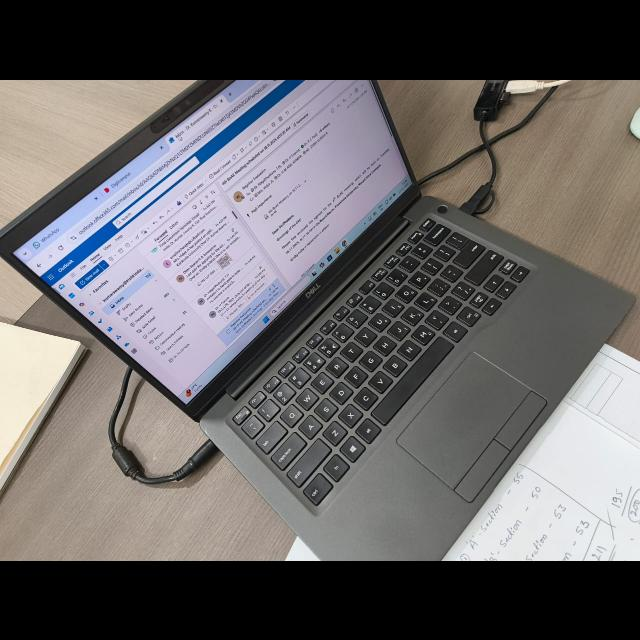laptop: (3, 83, 627, 561)
